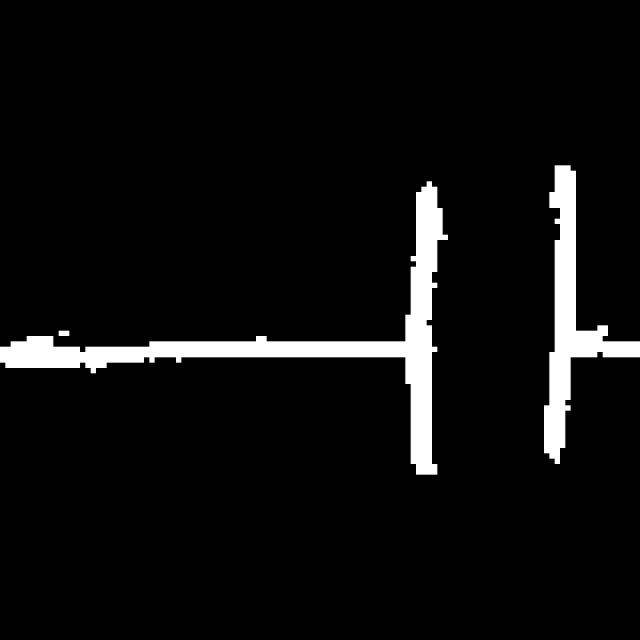capacitor: (387, 152, 596, 484)
